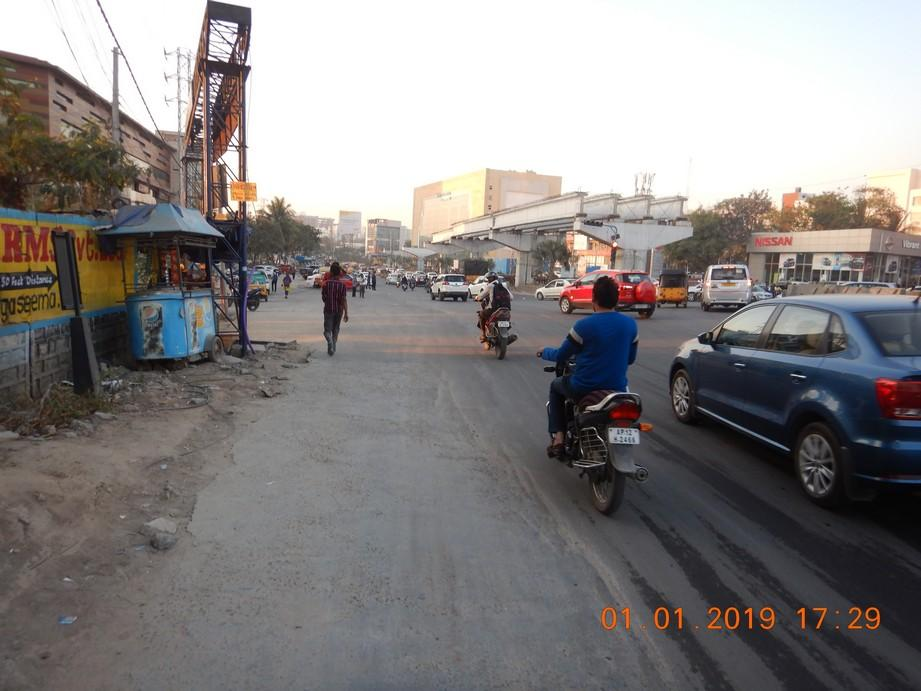plate: (607, 426, 641, 446)
